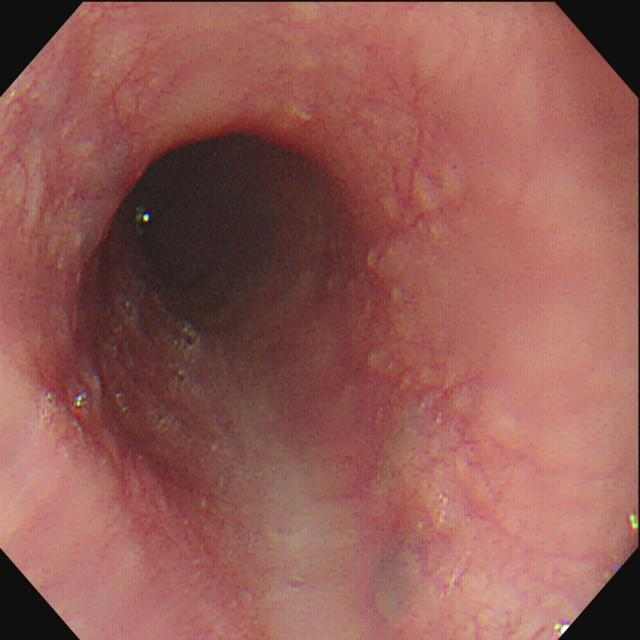A: (35, 375, 174, 549)
E: (109, 125, 346, 361)
U: (136, 205, 152, 227), (554, 622, 572, 638), (628, 512, 640, 532)
